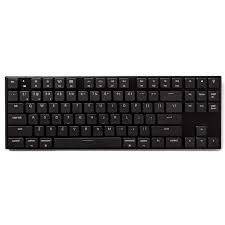keyboard: (6, 75, 221, 152)
